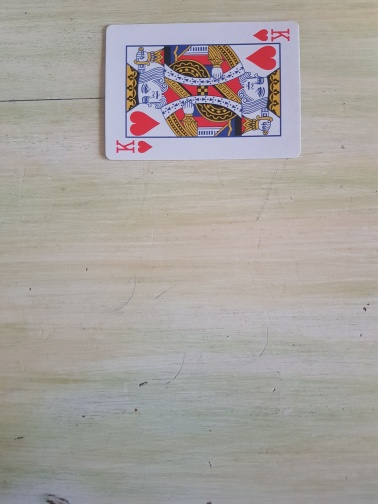king: (103, 20, 303, 162)
